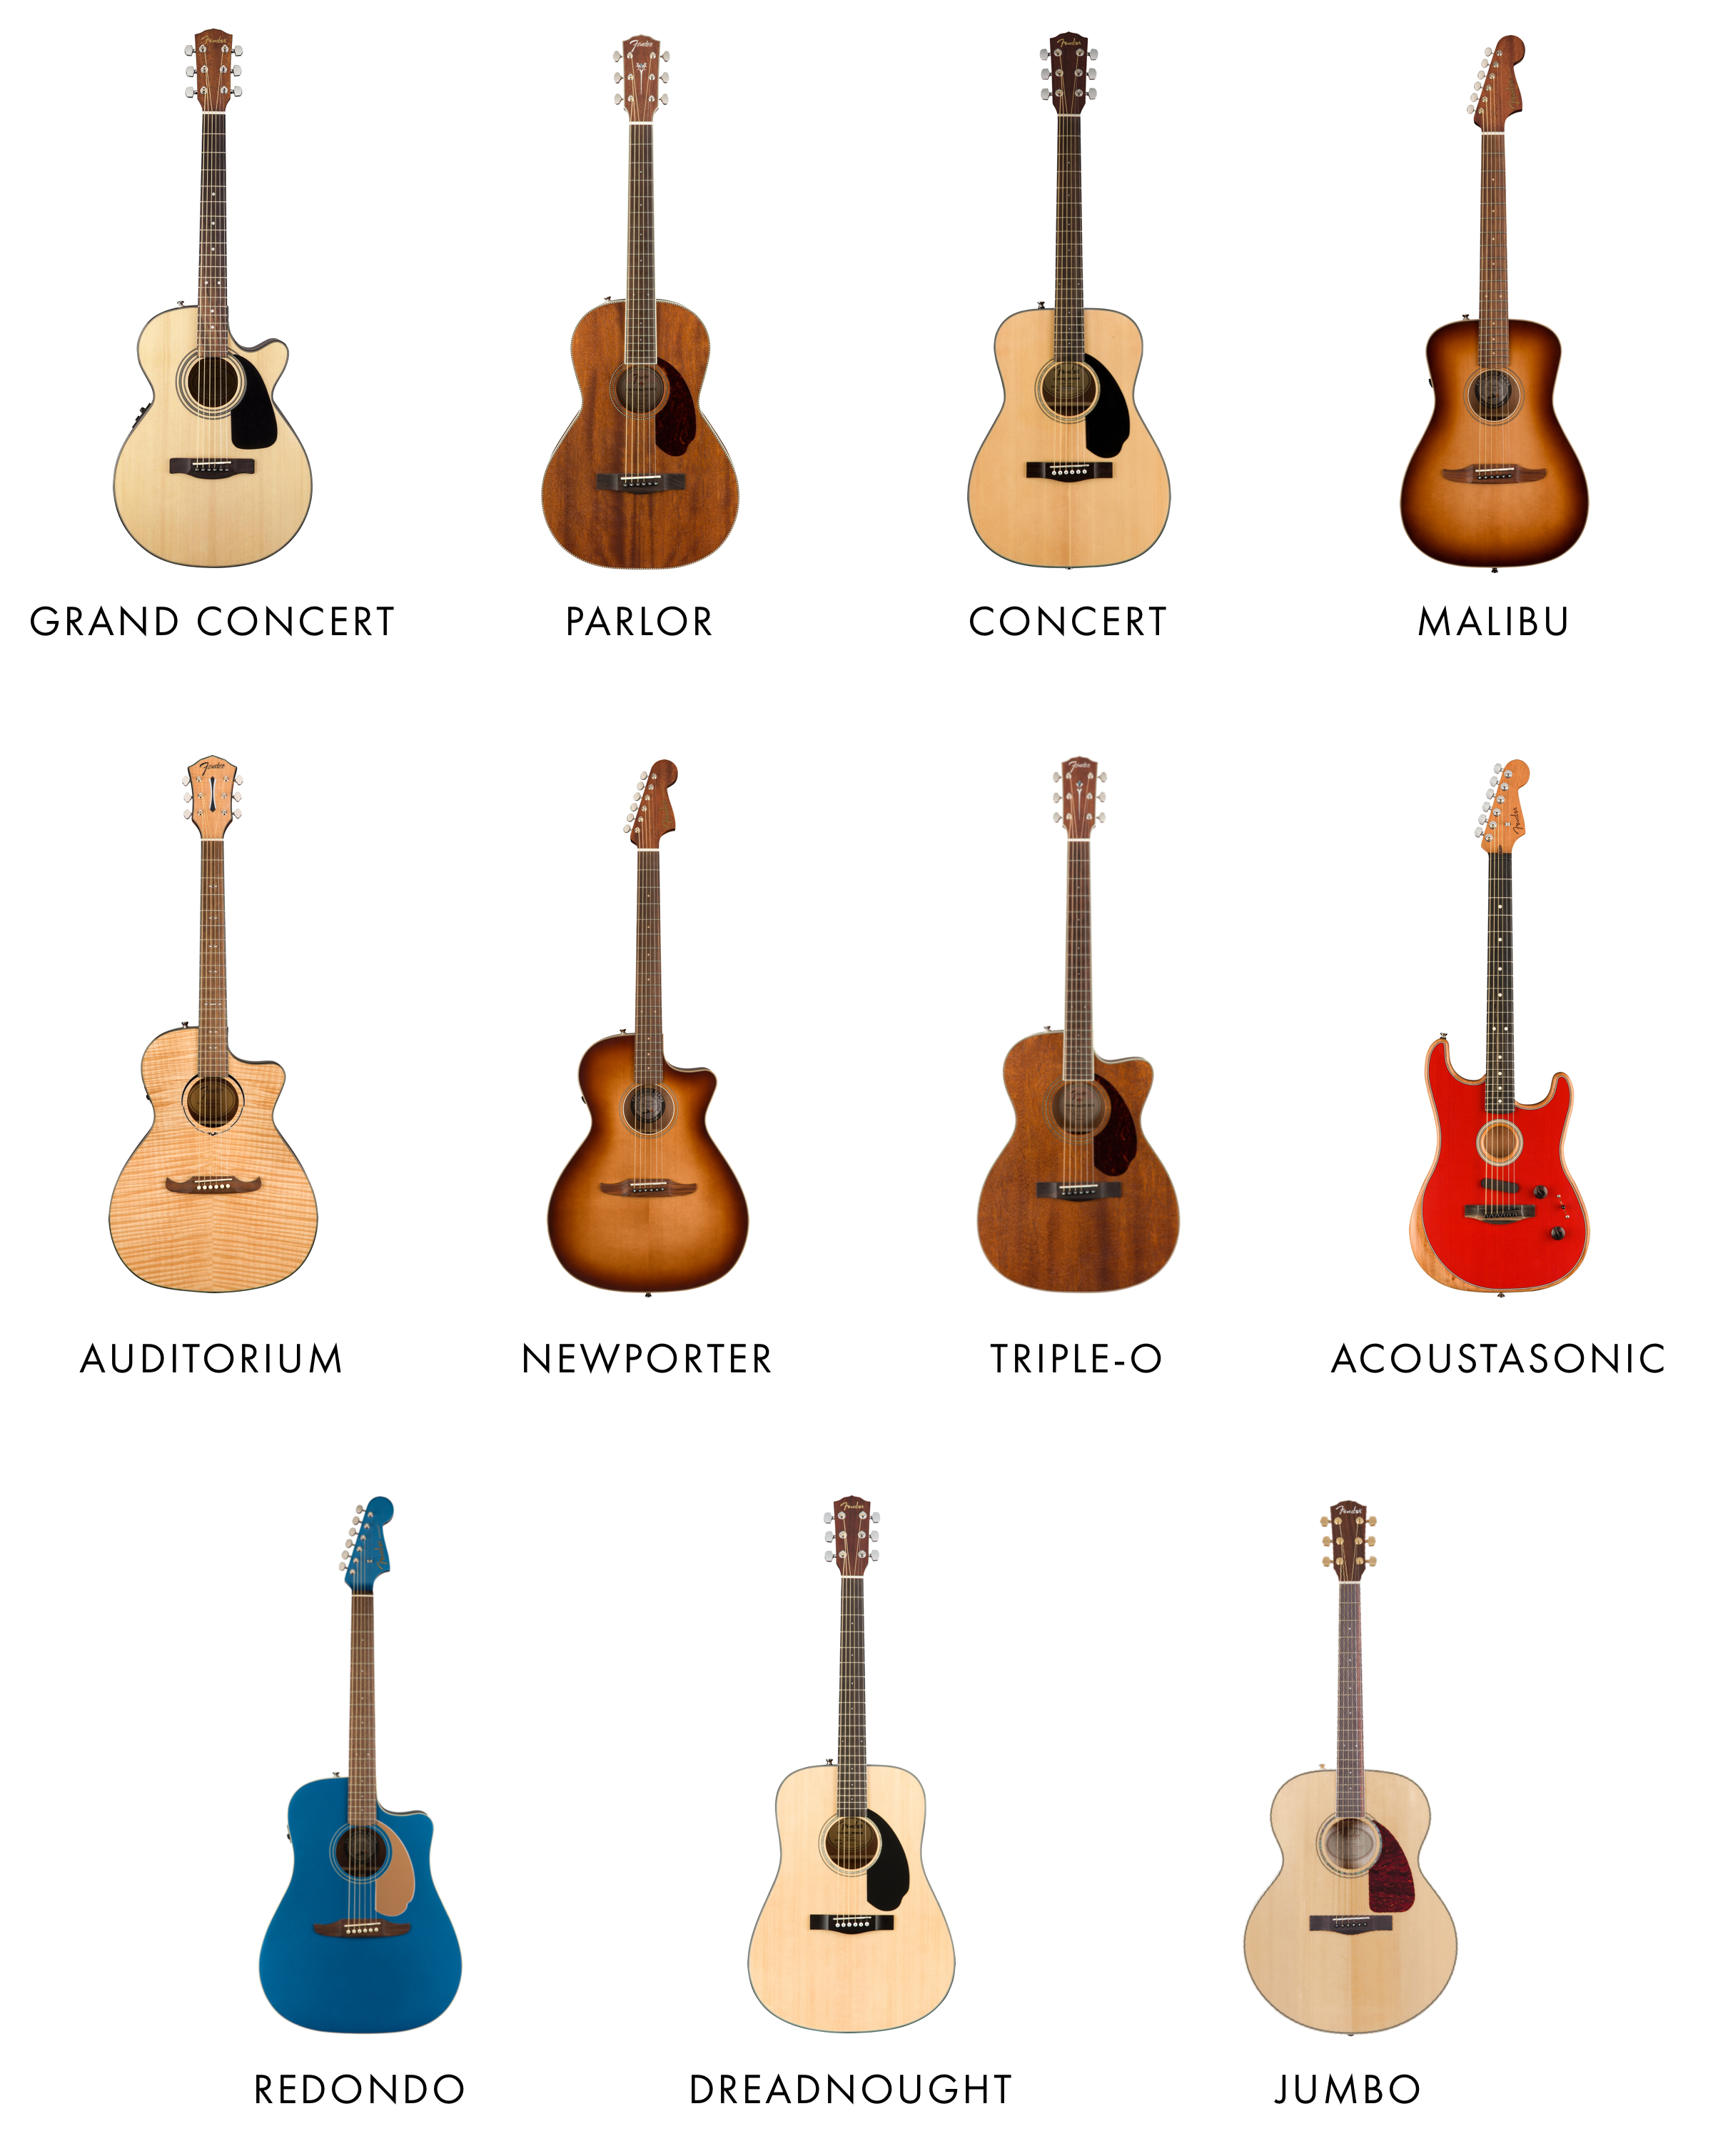guitar: (103, 751, 320, 1298), (1239, 1496, 1456, 2039), (744, 1493, 959, 2039), (257, 1493, 465, 2040), (108, 30, 317, 572), (964, 30, 1172, 572), (975, 756, 1181, 1300), (544, 756, 751, 1298), (539, 33, 742, 574), (1398, 33, 1591, 570), (1403, 756, 1591, 1298)
